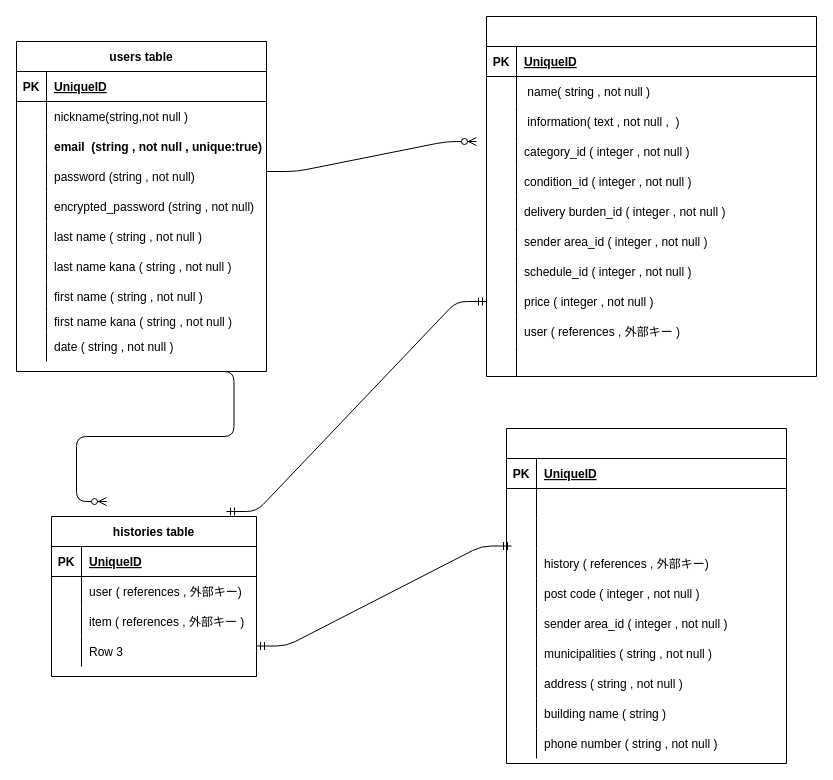
This 833x780 diagram has some shape labels left out. Here are the shapes that lost their labels. From the top down, the box of each, then its label:
(486, 16, 816, 376): items table
(506, 428, 786, 764): address table
